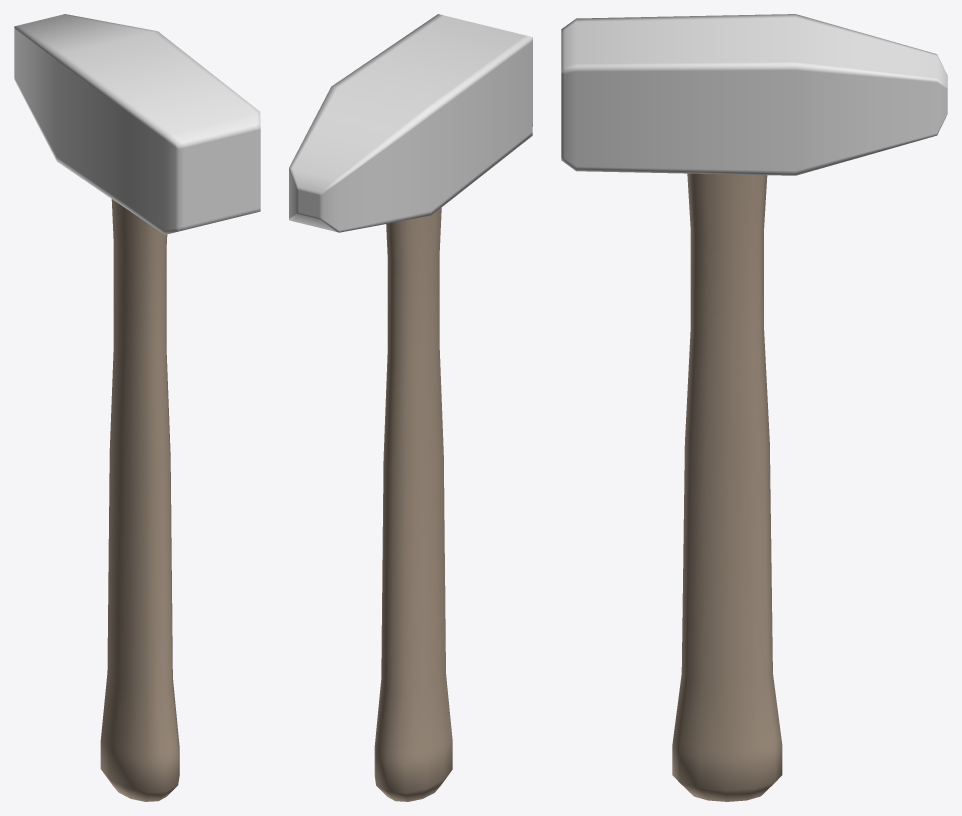
The model's file is SmithingHammer.fbx.
The picture shows the model from 3 angles, left to right: view 1: azimuth 30°, elevation 25°; view 2: azimuth 150°, elevation 25°; view 3: azimuth 270°, elevation 25°; orthographic projection. The views are drawn at different scales.
Parts seen in each view (by area): view 1: SmithHammer_LOD0; view 2: SmithHammer_LOD0; view 3: SmithHammer_LOD0.
Boxes of the visible parts, box(x1,y1,x2,y2) form: SmithHammer_LOD0: box(14, 14, 260, 801); SmithHammer_LOD0: box(289, 14, 532, 801); SmithHammer_LOD0: box(561, 14, 947, 801).
Size of what is drawn, in the model's own units: 57.29 by 390 by 182.
